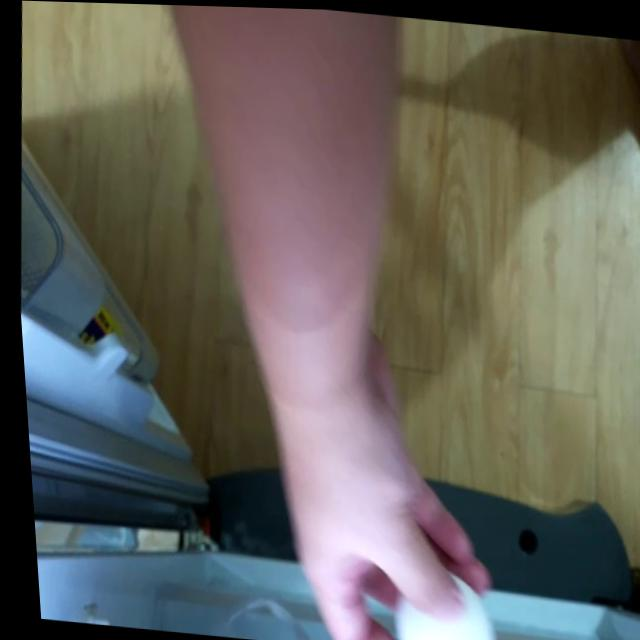egg: (374, 563, 494, 640)
